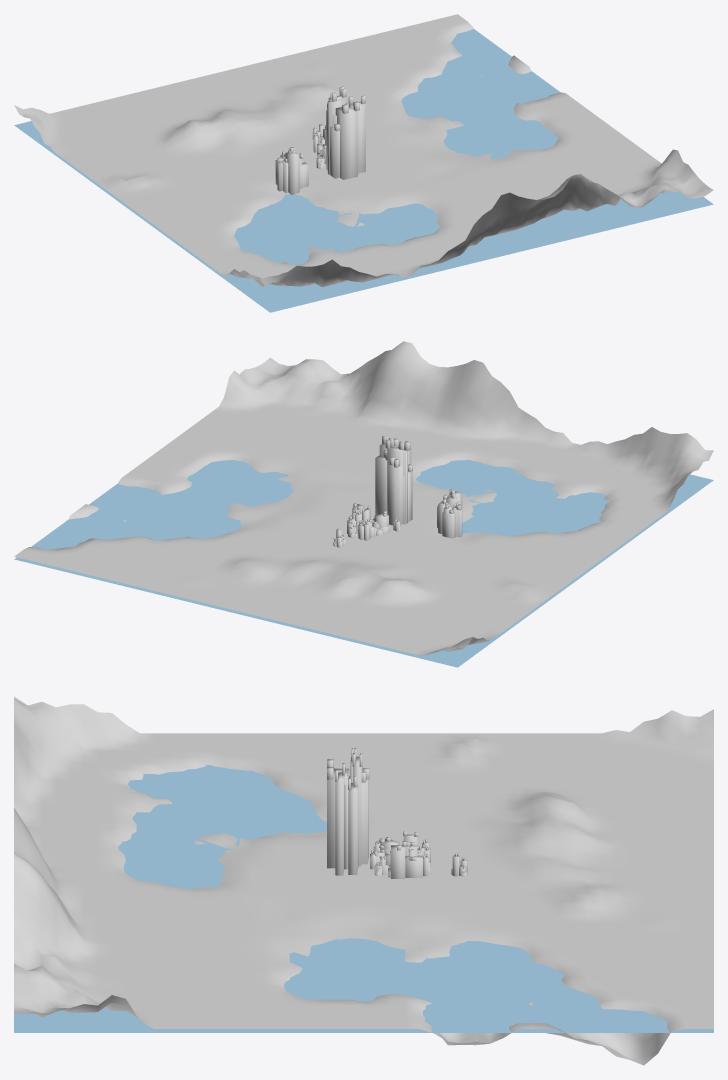
File: LevelSelect.fbx
3 views of the same model, one above another, from view 1: azimuth 30°, elevation 25°; view 2: azimuth 150°, elevation 25°; view 3: azimuth 270°, elevation 25° (orthographic). The views are drawn at different scales.
Parts seen in each view (by area): view 1: SCG_terrain, SCG_water, SCG_city; view 2: SCG_terrain, SCG_water, SCG_city; view 3: SCG_terrain, SCG_water, SCG_city.
Boxes of the visible parts, x1,y1,x2,y2 form: SCG_terrain: (14, 14, 713, 287); SCG_water: (14, 28, 713, 312); SCG_city: (275, 86, 365, 194); SCG_terrain: (14, 341, 713, 656); SCG_water: (14, 460, 713, 667); SCG_city: (333, 436, 462, 547); SCG_terrain: (14, 696, 713, 1065); SCG_water: (14, 765, 713, 1032); SCG_city: (327, 748, 467, 878).
Bounding box in the file's own units: 5 × 1.18 × 5.
